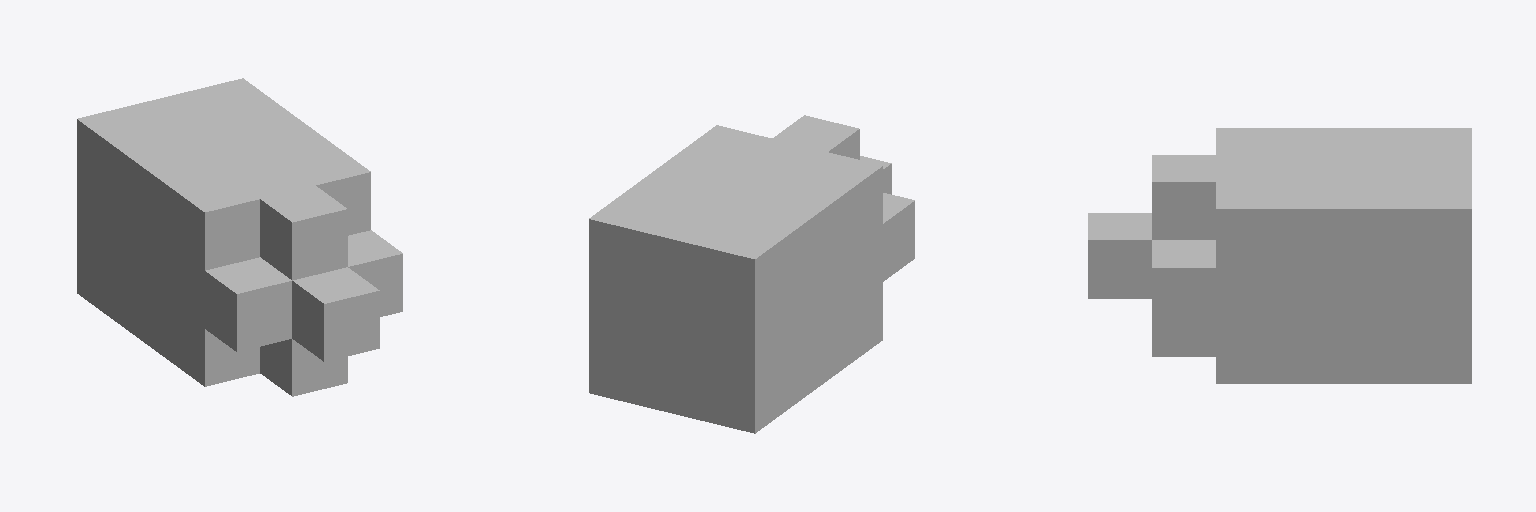
File: Para_Bullet 1.obj
3 renders of one model, left to right at view 1: azimuth 30°, elevation 25°; view 2: azimuth 150°, elevation 25°; view 3: azimuth 270°, elevation 25°, orthographic.
Visible parts, largest first — view 1: Para_Bullet; view 2: Para_Bullet; view 3: Para_Bullet.
Boxes of the visible parts, box(x1,y1,x2,y2) form: Para_Bullet: box(77, 78, 402, 396); Para_Bullet: box(589, 115, 914, 433); Para_Bullet: box(1088, 128, 1471, 383).
Bounding box in the file's own units: 3 × 3 × 6.